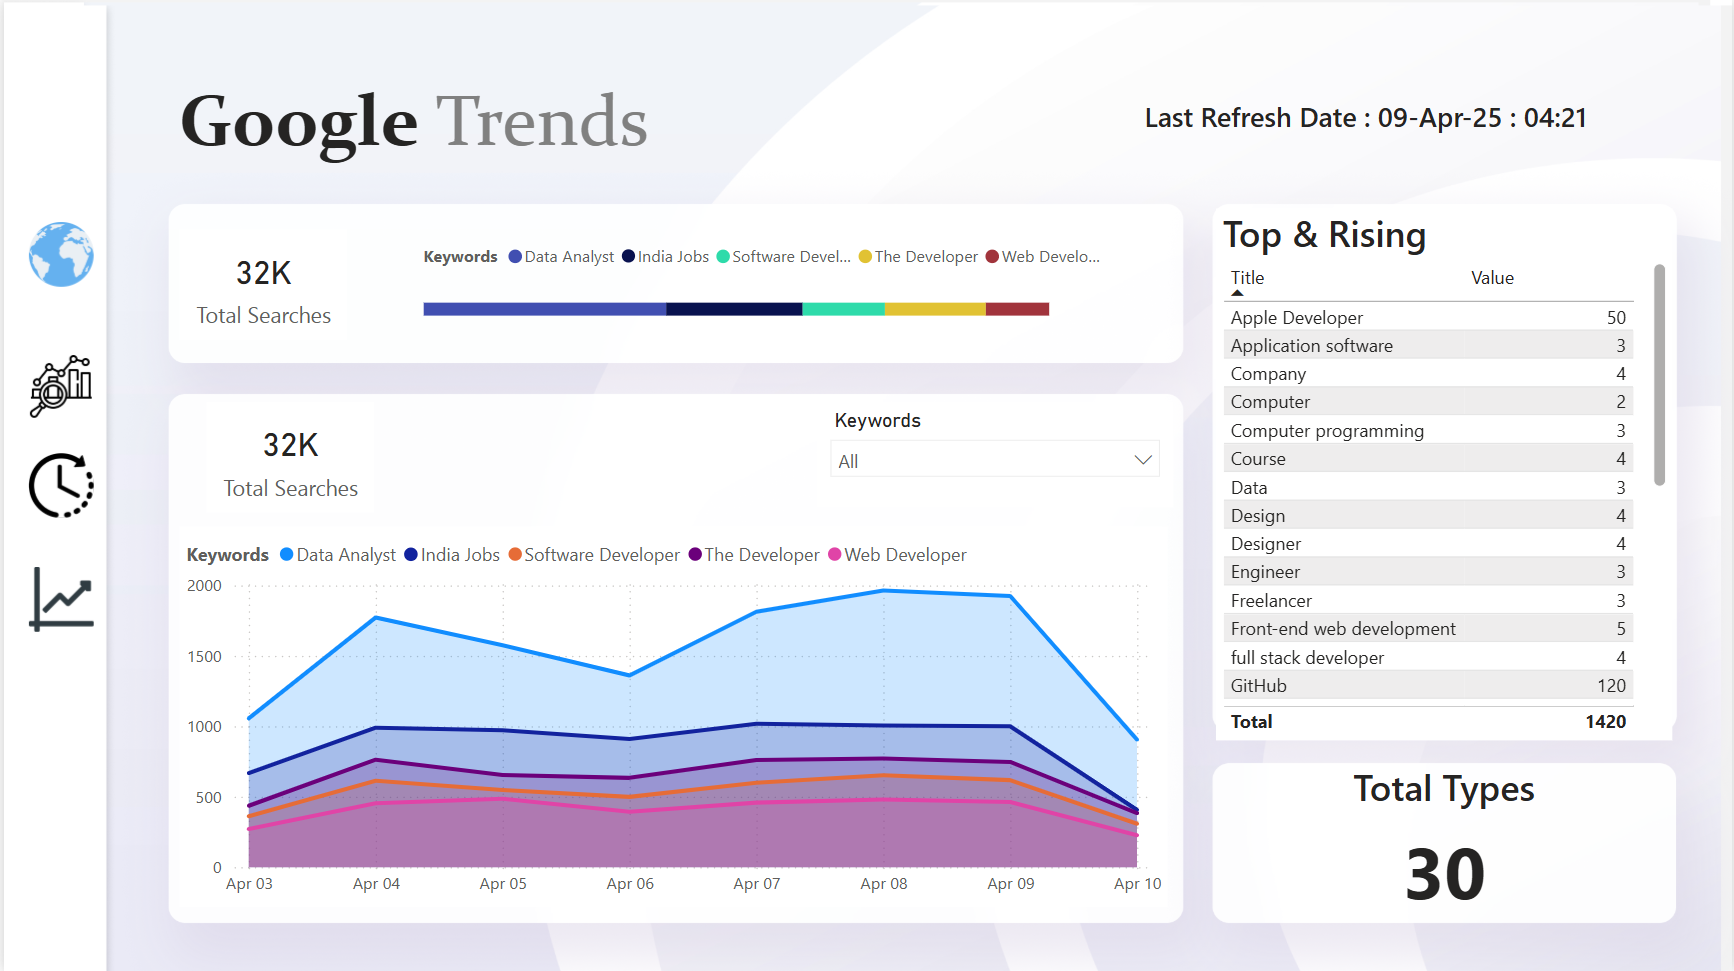

Layout of this report page (visuals, bound fields, positions):
{"tool":"powerbi","page":{"name":"Real Time","canvas":[1280,720],"ordinal":2},"visuals":[{"type":"areaChart","fields":{"Category":["Past_7_Days_Searches.Date.Variation.Date Hierarchy.Year","Past_7_Days_Searches.Date.Variation.Date Hierarchy.Quarter","Past_7_Days_Searches.Date.Variation.Date Hierarchy.Month","Past_7_Days_Searches.Date.Variation.Date Hierarchy.Day"],"Y":["Past_7_Days_Searches.Last_7_Days_Value"],"Series":["Past_7_Days_Searches.Keywords"]},"box":[130,390,732,282],"z":0},{"type":"slicer","fields":{"Values":["Past_7_Days_Searches.Keywords"]},"box":[602,298,264,78],"z":1},{"type":"card","fields":{"Values":["Past_7_Days_Searches.Last_7_Days_Value"]},"box":[150,298,124,82],"z":2},{"type":"card","fields":{"Values":["Past_7_Days_Searches.Last_7_Days_Value"]},"box":[130,170,124,82],"z":3},{"type":"barChart","fields":{"Y":["Past_7_Days_Searches.Last_7_Days_Value"],"Series":["Past_7_Days_Searches.Keywords"]},"box":[306,170,518,82],"z":4},{"type":"tableEx","title":"Top & Rising","fields":{"Values":["Rising_Top.Title","Sum(Rising_Top.Value)"]},"box":[898,154,338,394],"z":8},{"type":"textbox","box":[124.7,51.3,534,76],"z":9},{"type":"card","fields":{"Values":["Min(Refresh_Date.Refresh_Date)"]},"box":[802.7,61.3,412,54],"z":10},{"type":"actionButton","box":[14,154,56,68],"z":11},{"type":"actionButton","box":[14,252,56,68],"z":12},{"type":"actionButton","box":[14,326,56,68],"z":13},{"type":"actionButton","box":[14,410,56,68],"z":14},{"type":"card","title":"Total Types","fields":{"Values":["CountNonNull(Rising_Top.Type)"]},"box":[898,564,338,122],"z":15}]}

Visuals, with their boxes on the page's 1280x720 design canvas (x1, y1, x2, y2). These are canvas units, not pixel positions in the 1734x971 screenshot, which may show the page scaled, cropped or inside an application window:
areaChart - Past_7_Days_Searches.Date.Variation.Date Hierarchy.Year x Past_7_Days_Searches.Date.Variation.Date Hierarchy.Quarter: (130,390,862,672)
slicer - Past_7_Days_Searches.Keywords: (602,298,866,376)
card - Past_7_Days_Searches.Last_7_Days_Value: (150,298,274,380)
card - Past_7_Days_Searches.Last_7_Days_Value: (130,170,254,252)
barChart - Past_7_Days_Searches.Last_7_Days_Value x Past_7_Days_Searches.Keywords: (306,170,824,252)
"Top & Rising" tableEx: (898,154,1236,548)
textbox: (125,51,659,127)
card - Min(Refresh_Date.Refresh_Date): (803,61,1215,115)
actionButton: (14,154,70,222)
actionButton: (14,252,70,320)
actionButton: (14,326,70,394)
actionButton: (14,410,70,478)
"Total Types" card: (898,564,1236,686)
